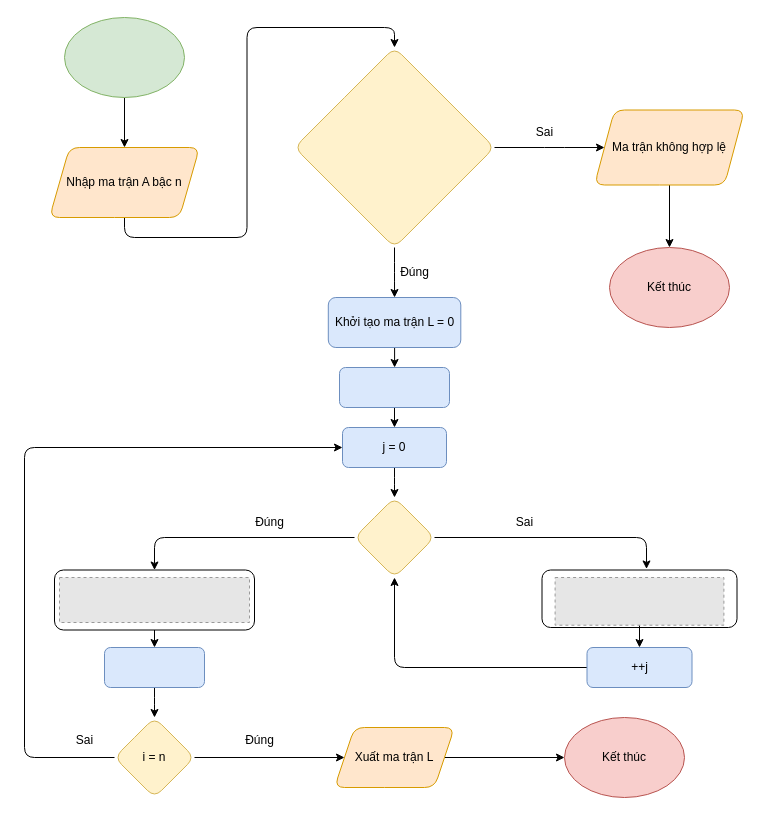
This 762x815 diagram has some shape labels left out. Grey dashed boxes stand in for pictures. Each missing label, with the centre of its shape:
++i: the point at 154,667
Bắt đầu: the point at 124,57
i = 0: the point at 394,387
i = j: the point at 394,537
Ma trận A đối xứng và xác định dương: the point at 394,147
